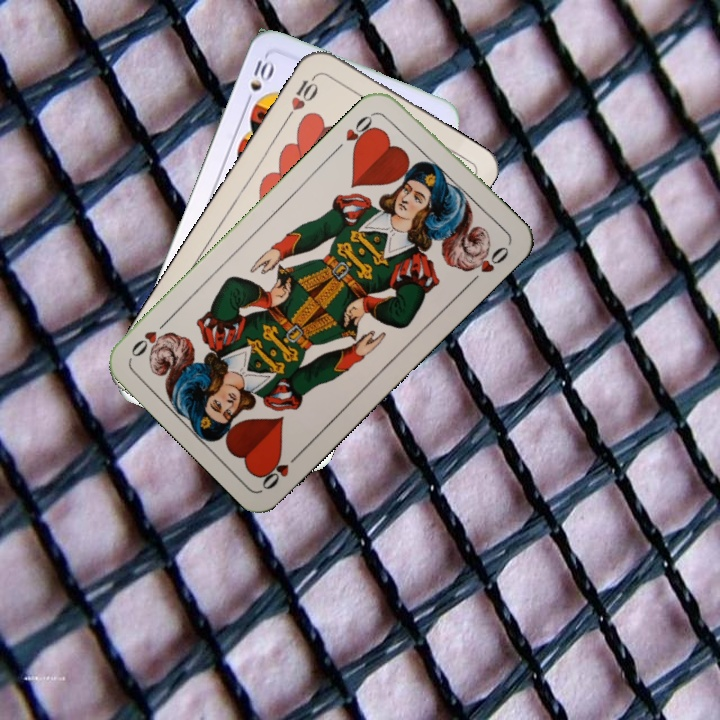H10: (282, 69, 321, 122)
HO: (256, 446, 306, 492), (332, 108, 380, 155)
S10: (241, 52, 276, 109)
